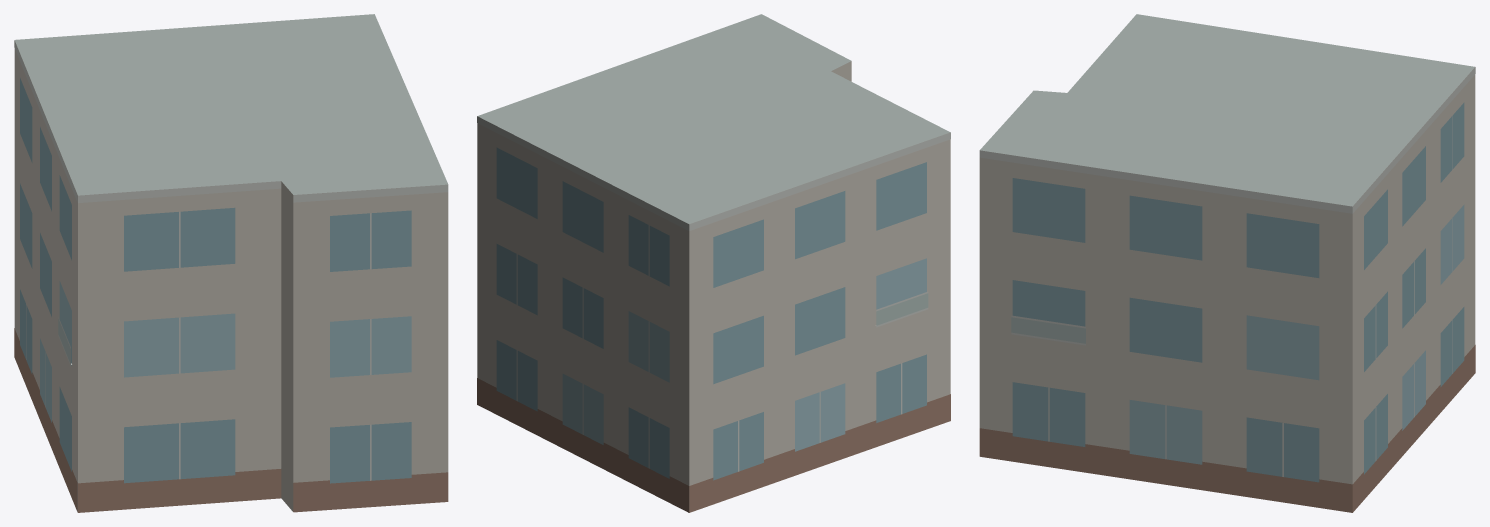
File: survey-upis-32812715.glb
3 renders of one model, left to right at view 1: azimuth 30°, elevation 25°; view 2: azimuth 150°, elevation 25°; view 3: azimuth 270°, elevation 25°, orthographic. The views are drawn at different scales.
Visible parts, largest first — view 1: survey-upis-32812715.tmp; view 2: survey-upis-32812715.tmp; view 3: survey-upis-32812715.tmp.
Part boxes in pixels (x1,y1,x2,y2): survey-upis-32812715.tmp: [14, 14, 448, 512]; survey-upis-32812715.tmp: [477, 14, 950, 512]; survey-upis-32812715.tmp: [979, 14, 1475, 512].
Bounding box in the file's own units: 13.76 × 10.2 × 14.97.
